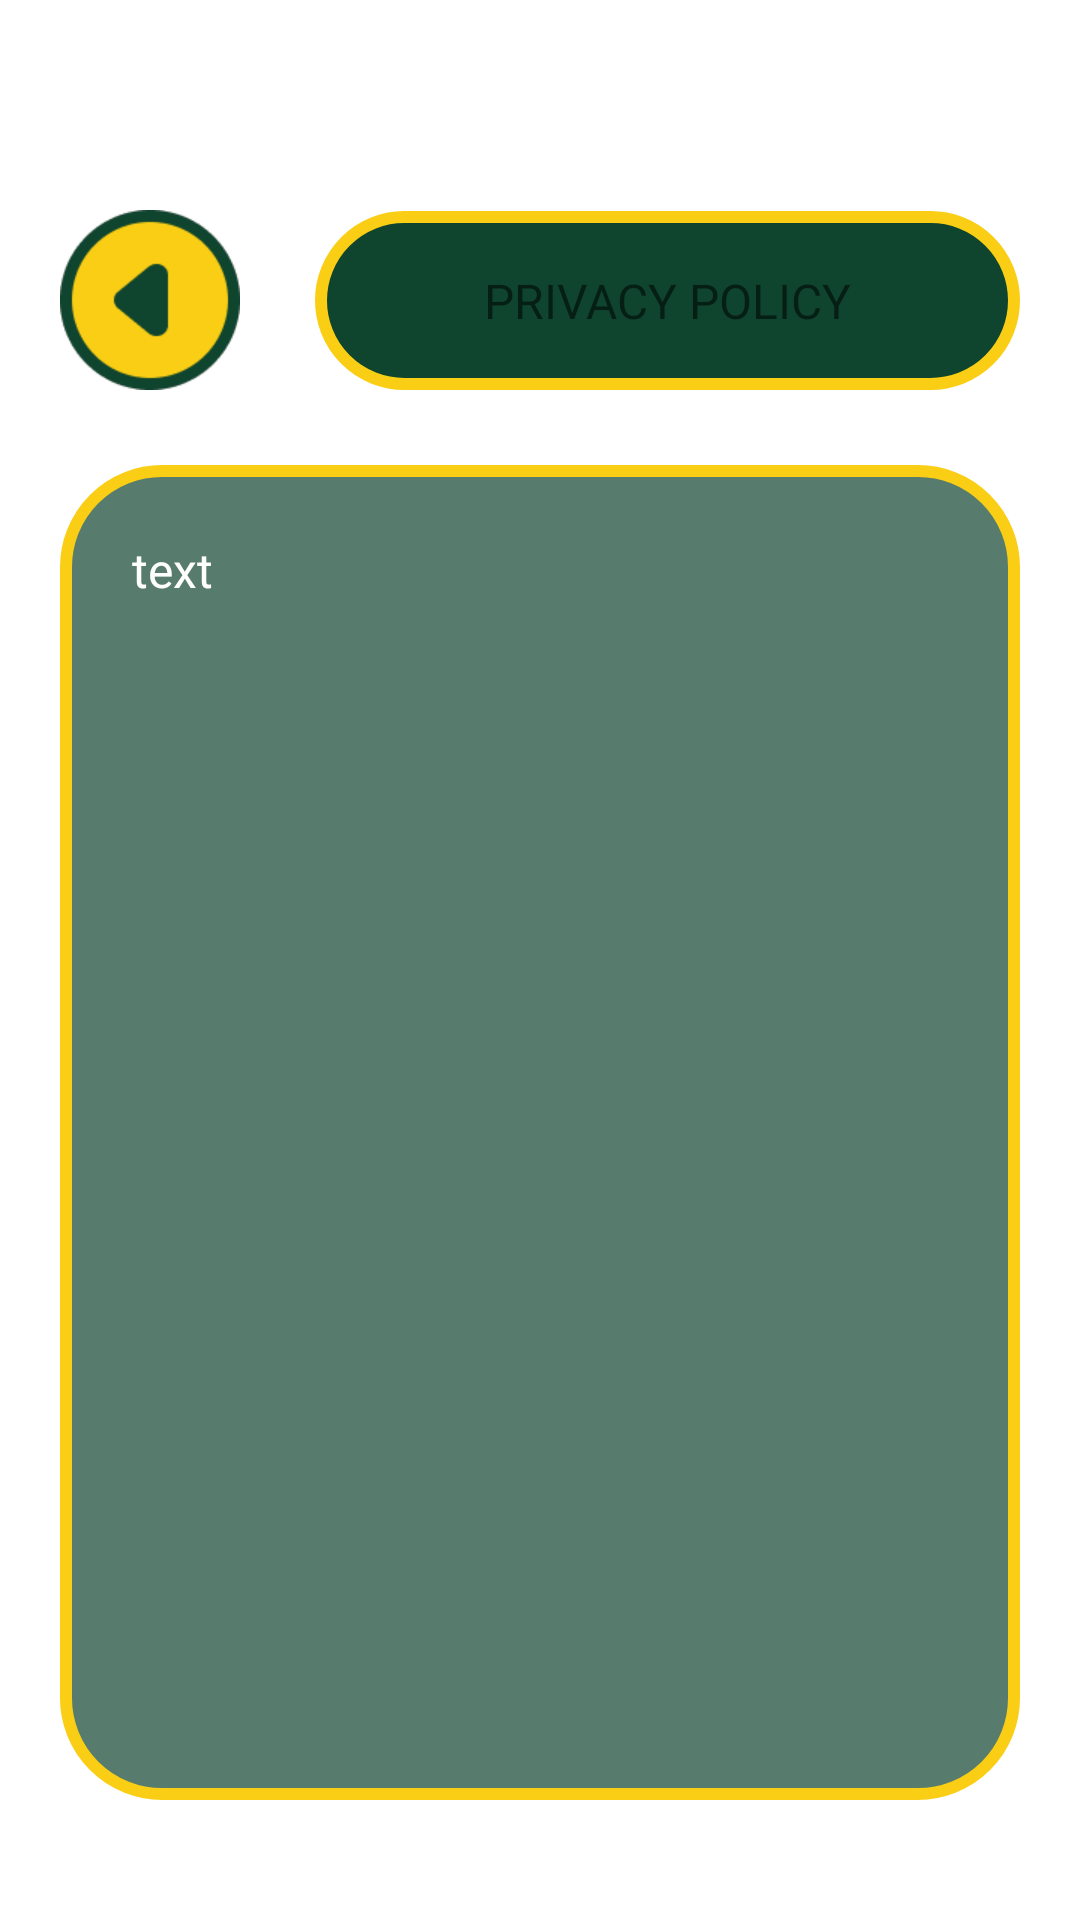

Icons on this 1080px×1920px Android screen, each with its box as [x1,y1,x2,y2]:
Go back: [60,210,240,390]
